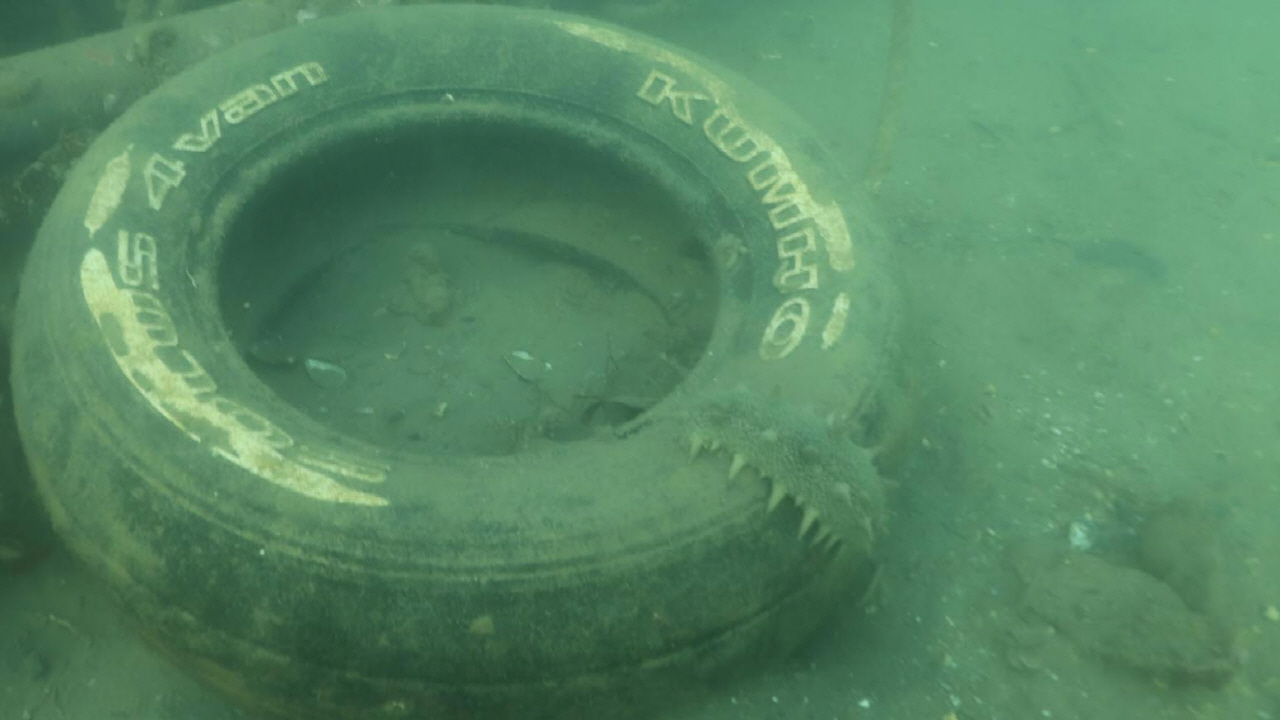tire: (7, 0, 917, 720)
